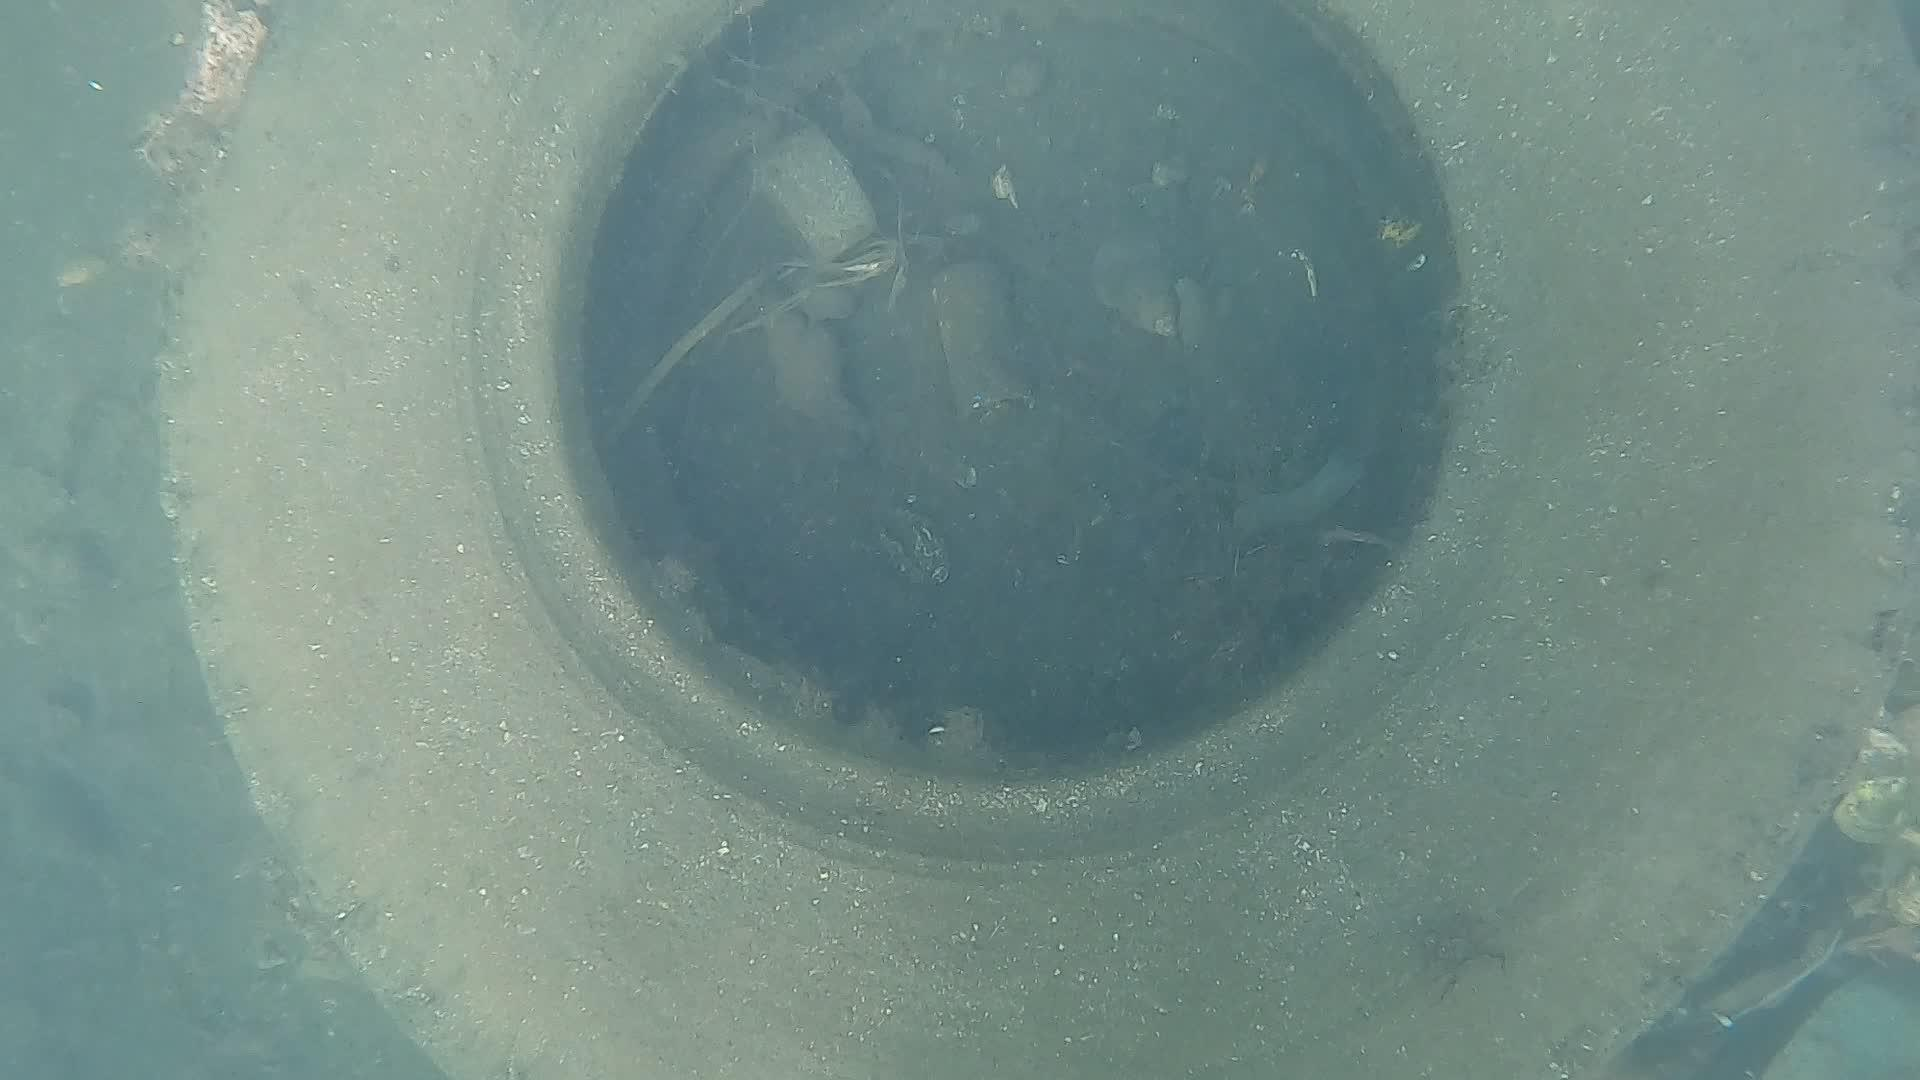tire: (157, 0, 1920, 1080)
